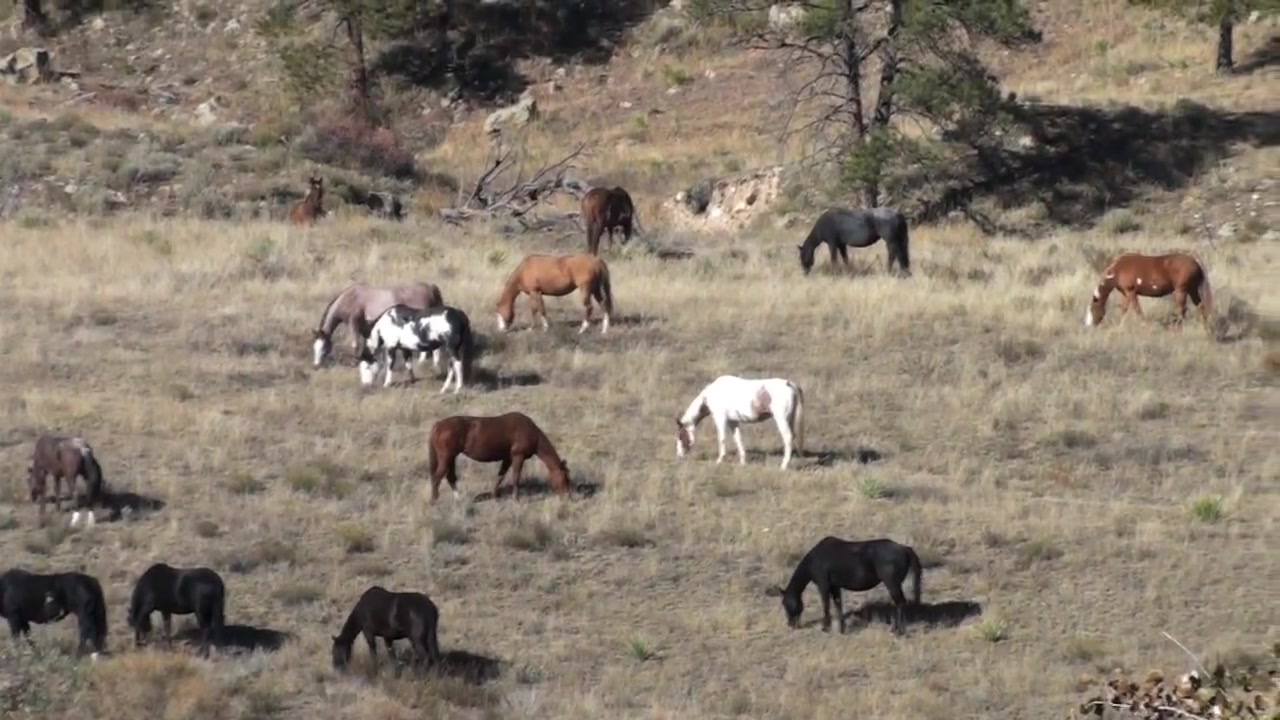horse: (674, 377, 809, 475)
